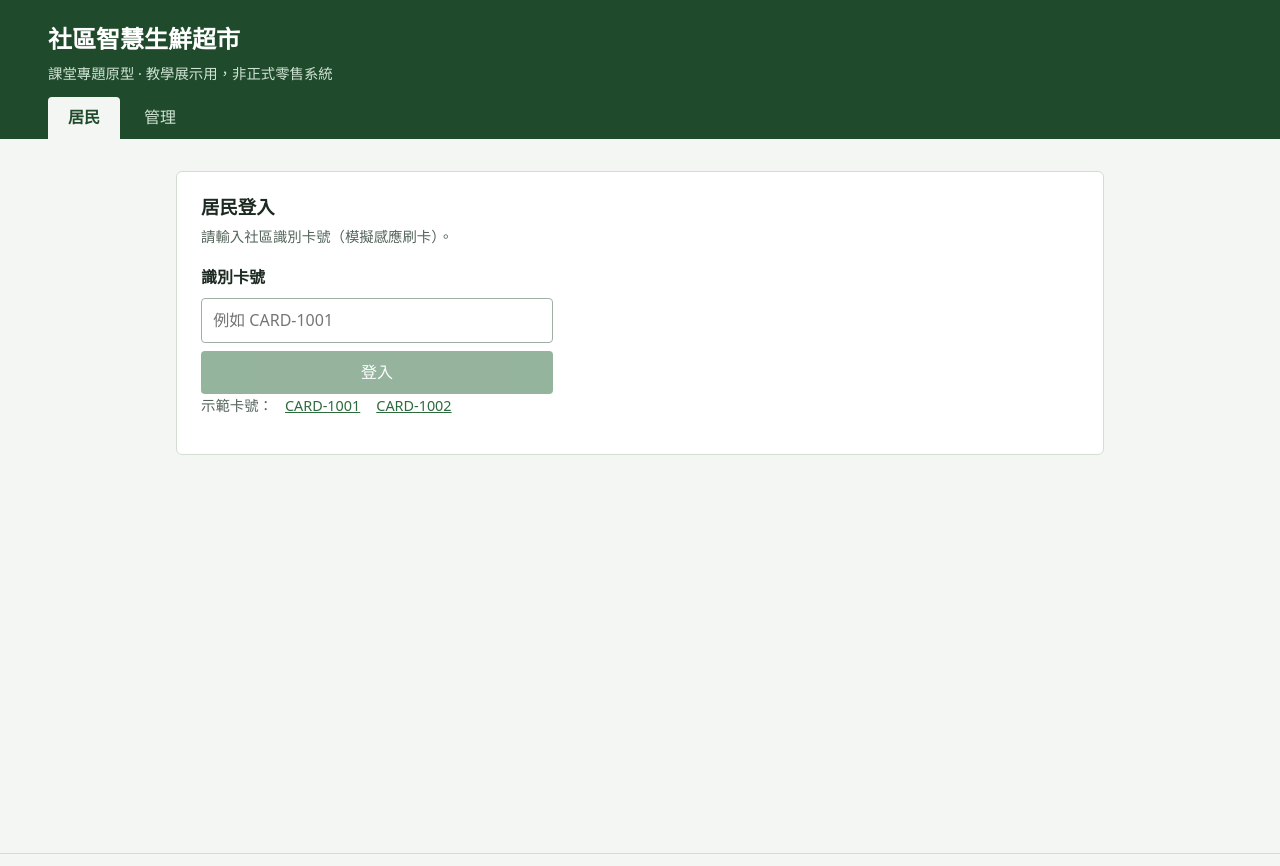
Test: a failed payment keeps the cart and is clearly labelled
The image size is (1280, 866).
Type "CARD-1001" into the field labelled "識別卡號" at (377, 321), box left=201, top=298, right=553, bottom=343
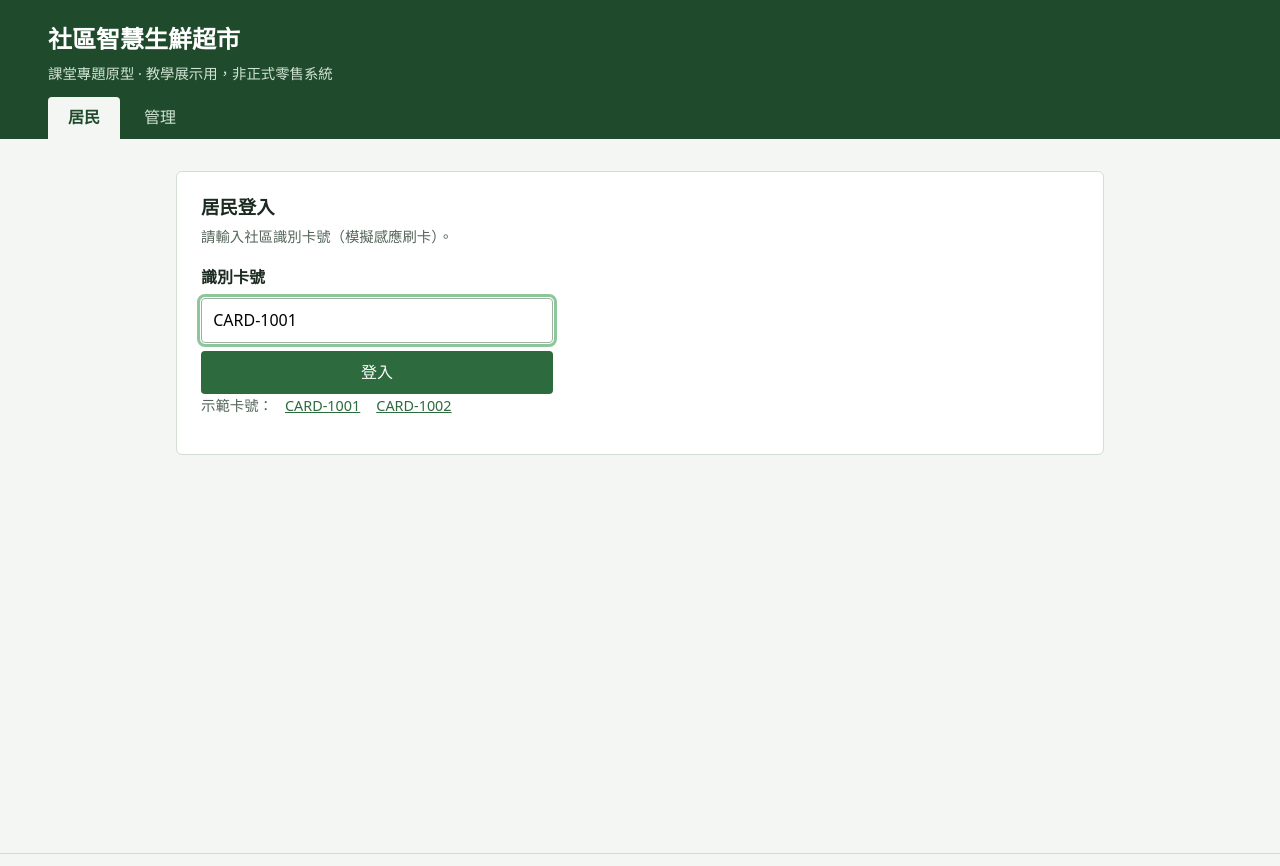
Click the button "登入" at (377, 373), box left=201, top=351, right=553, bottom=394
(page scrolled)
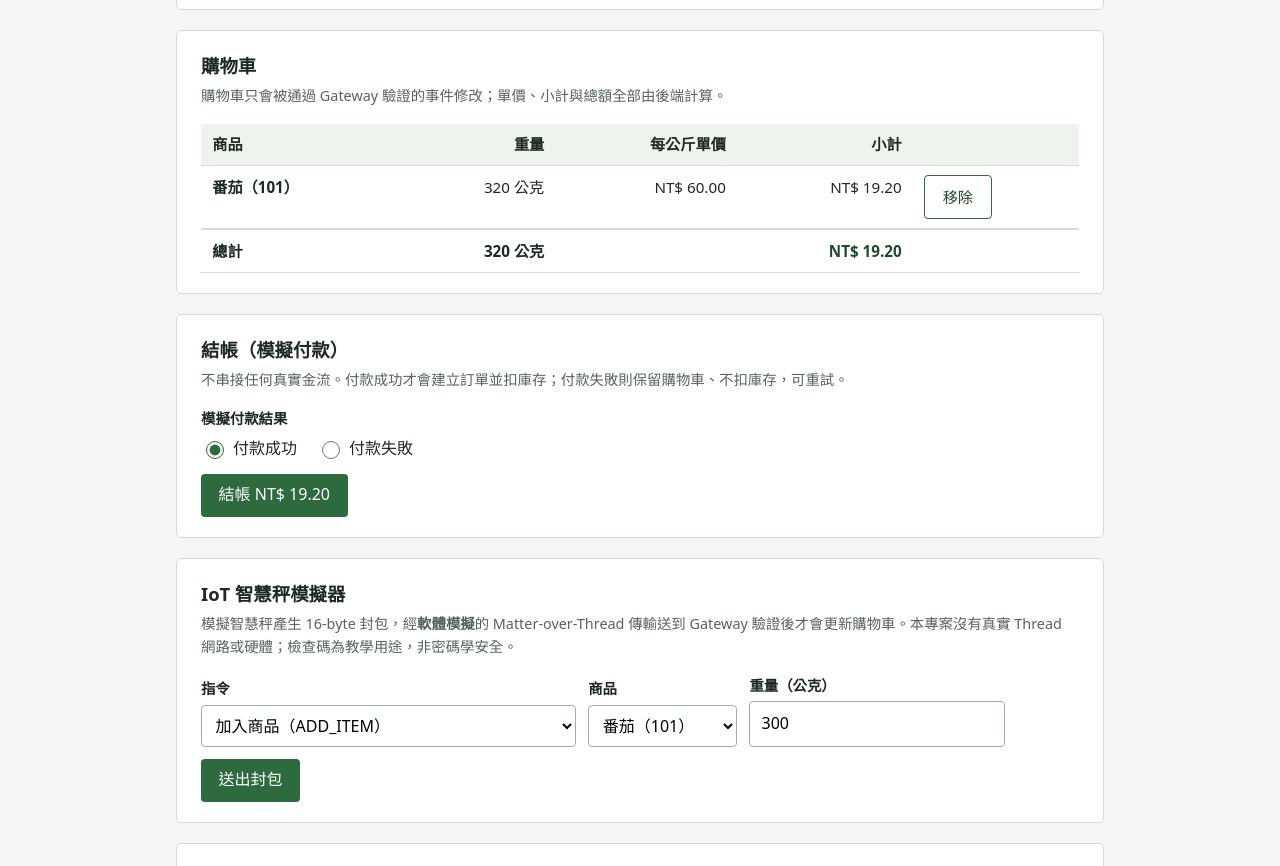
Click the radio button labelled "付款失敗" at (331, 450), box left=322, top=442, right=340, bottom=459
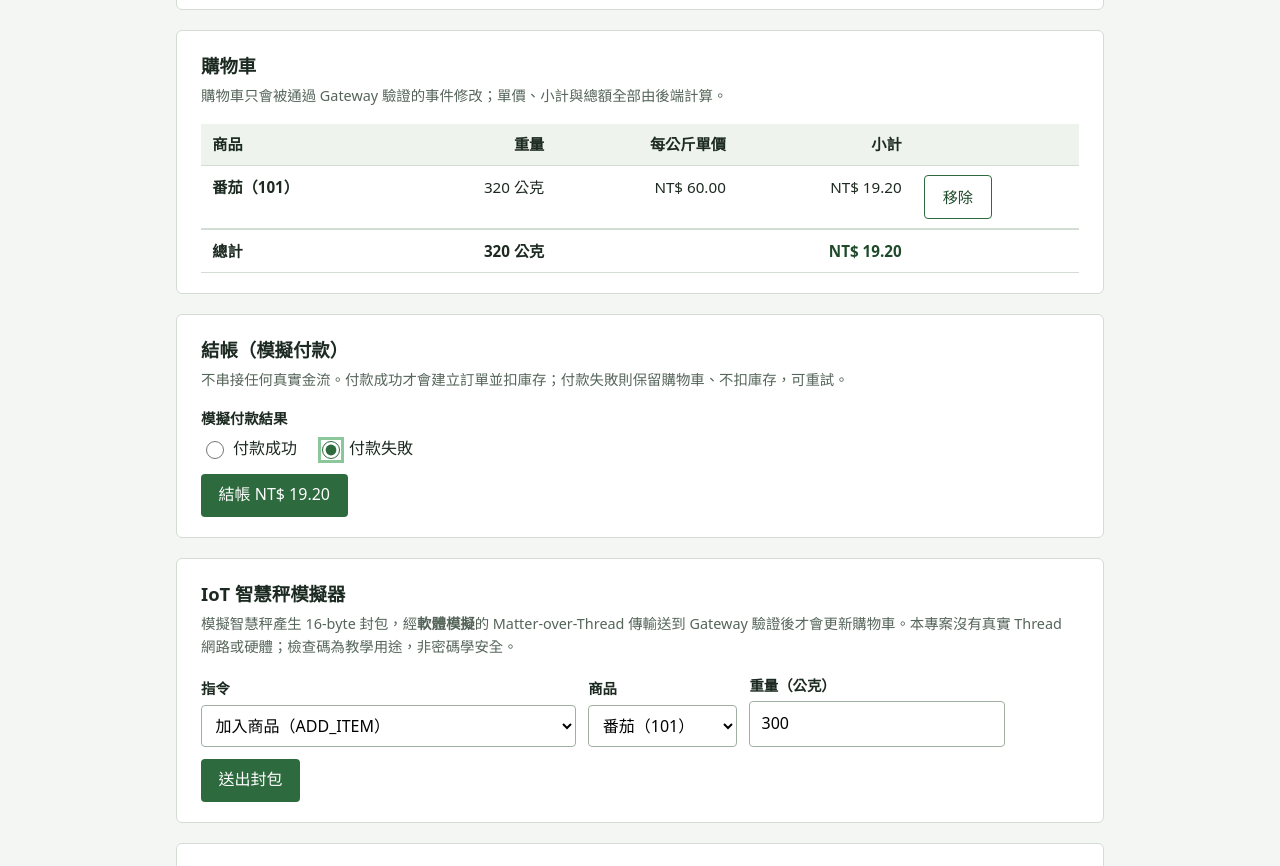
Click the button "結帳 NT$ 19.20" at (274, 495), box left=201, top=474, right=348, bottom=517
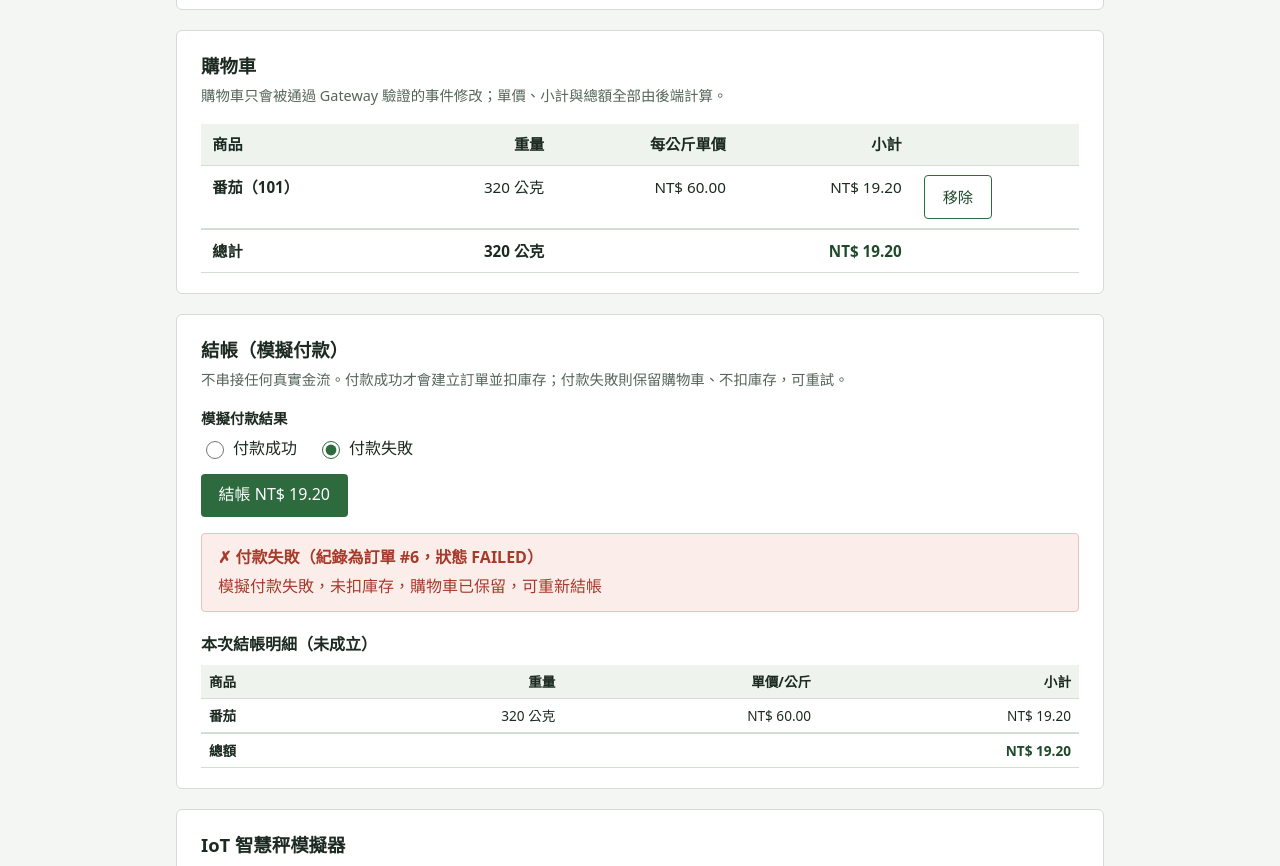
Result: the table named "購物車內容" is shown at left=201, top=124, right=1079, bottom=273
Result: the text "✗ 付款失敗（紀錄為訂單 #6，狀態 FAILED）" is shown at left=218, top=546, right=543, bottom=568
